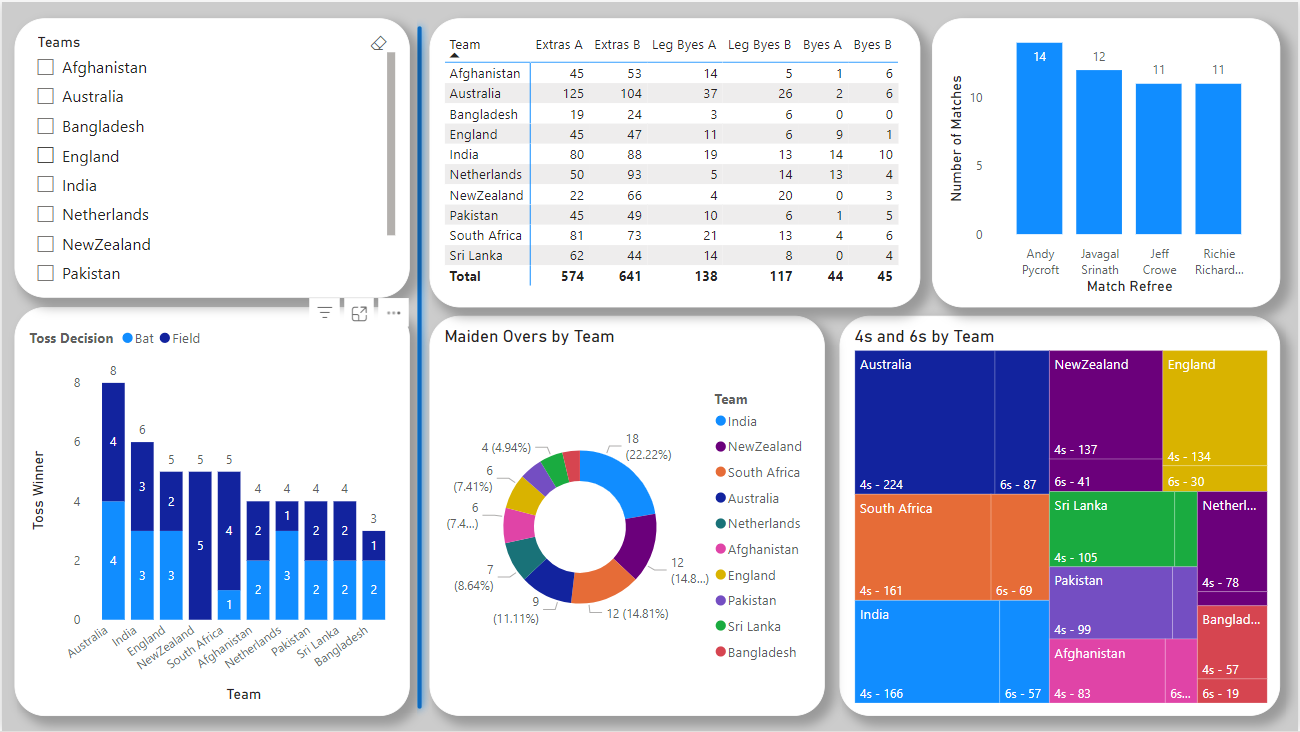

The dashboard page shown, as its layout file describes it:
{"tool":"powerbi","page":{"name":"Page 2","canvas":[1280,720],"ordinal":1},"visuals":[{"type":"columnChart","fields":{"Category":["CWC2023_.Team A"],"Y":["CWC2023_.Toss Winner"],"Series":["CWC2023_.Toss Decision"]},"box":[12.1,301.5,390.8,404],"z":0},{"type":"treemap","title":"4s and 6s by Team","fields":{"Group":["CWC2023_.Team A"],"Values":["CWC2023_.4s A","CWC2023_.6s A"]},"box":[827.3,309.9,435.4,395.6],"z":1000},{"type":"donutChart","fields":{"Category":["CWC2023_.Team A"],"Y":["CWC2023_.Maiden Overs A"]},"box":[422.1,309.9,390.8,395.6],"z":2000},{"type":"pivotTable","fields":{"Rows":["CWC2023_.Team A"],"Values":["CWC2023_.Extras A","CWC2023_.Extras B","CWC2023_.Leg Byes A","CWC2023_.Leg Byes B","CWC2023_.Byes A","CWC2023_.Byes B"]},"box":[422.1,15.7,484.8,285.8],"z":3000},{"type":"shape","box":[402.8,15.7,19.3,689.8],"z":4000},{"type":"columnChart","fields":{"Category":["CWC2023_.Match Refree"],"Y":["CWC2023_.Match ID"]},"box":[919,15.7,343.7,285.8],"z":5000},{"type":"slicer","fields":{"Values":["CWC2023_.Team A"]},"box":[12.1,15.7,390.8,276.2],"z":6000}]}

Visuals, with their boxes in screenshot pixels (x1, y1, x2, y2), scaled from the page's 1280x720 canvas onto the 1300x732 screenshot:
columnChart - CWC2023_.Team A x CWC2023_.Toss Winner: [left=12, top=307, right=409, bottom=717]
"4s and 6s by Team" treemap: [left=840, top=315, right=1282, bottom=717]
donutChart - CWC2023_.Team A x CWC2023_.Maiden Overs A: [left=429, top=315, right=826, bottom=717]
pivotTable - CWC2023_.Team A x CWC2023_.Extras A: [left=429, top=16, right=921, bottom=307]
shape: [left=409, top=16, right=429, bottom=717]
columnChart - CWC2023_.Match Refree x CWC2023_.Match ID: [left=933, top=16, right=1282, bottom=307]
slicer - CWC2023_.Team A: [left=12, top=16, right=409, bottom=297]
